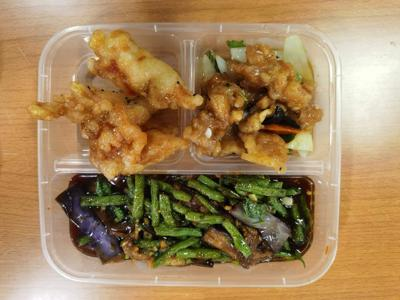gbr: (48, 27, 188, 174)
